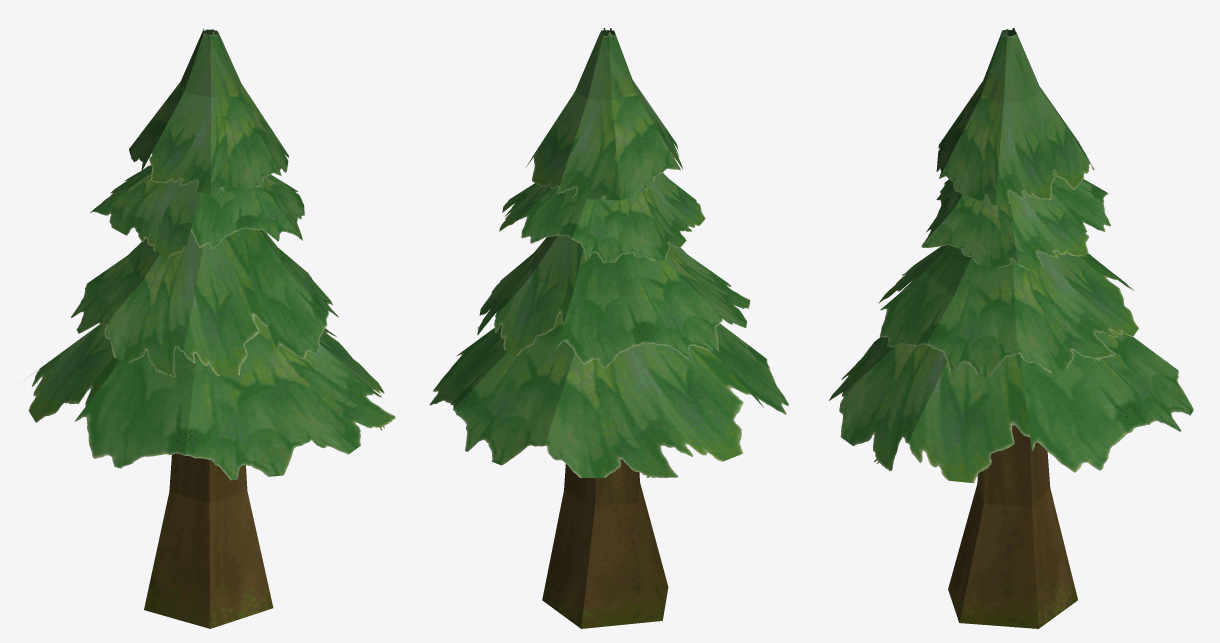
The model's file is plant_lobbynew02_zhiwu_shu03.FBX.
The picture shows the model from 3 angles, left to right: view 1: azimuth 30°, elevation 25°; view 2: azimuth 150°, elevation 25°; view 3: azimuth 270°, elevation 25°; orthographic projection.
Parts seen in each view (by area): view 1: plant_lobbynew02_zhiwu_shu03; view 2: plant_lobbynew02_zhiwu_shu03; view 3: plant_lobbynew02_zhiwu_shu03.
Boxes of the visible parts, <box> form: plant_lobbynew02_zhiwu_shu03: <box>28,28,395,628</box>; plant_lobbynew02_zhiwu_shu03: <box>429,28,788,628</box>; plant_lobbynew02_zhiwu_shu03: <box>829,28,1193,628</box>.
Size of the model in its own units: 270 by 270 by 452.
